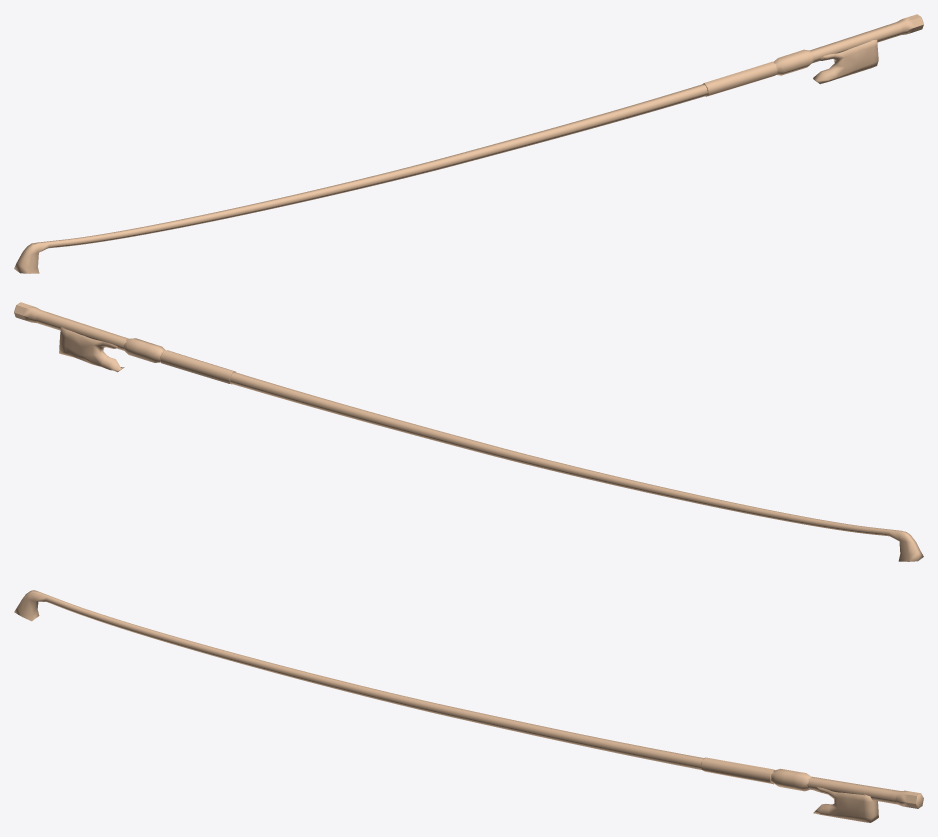
File: ViolinBow.fbx
3 views of the same model, one above another, from view 1: azimuth 30°, elevation 25°; view 2: azimuth 150°, elevation 25°; view 3: azimuth 330°, elevation 25° (orthographic).
Parts seen in each view (by area): view 1: Violin.003; view 2: Violin.003; view 3: Violin.003.
Boxes of the visible parts, x1,y1,x2,y2 form: Violin.003: [14, 14, 923, 273]; Violin.003: [14, 302, 923, 561]; Violin.003: [14, 590, 923, 822].
Size of the model in its own units: 75.44 by 3.31 by 1.31.
